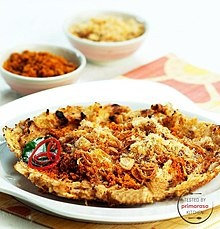kerak_telor: (3, 103, 220, 199)
